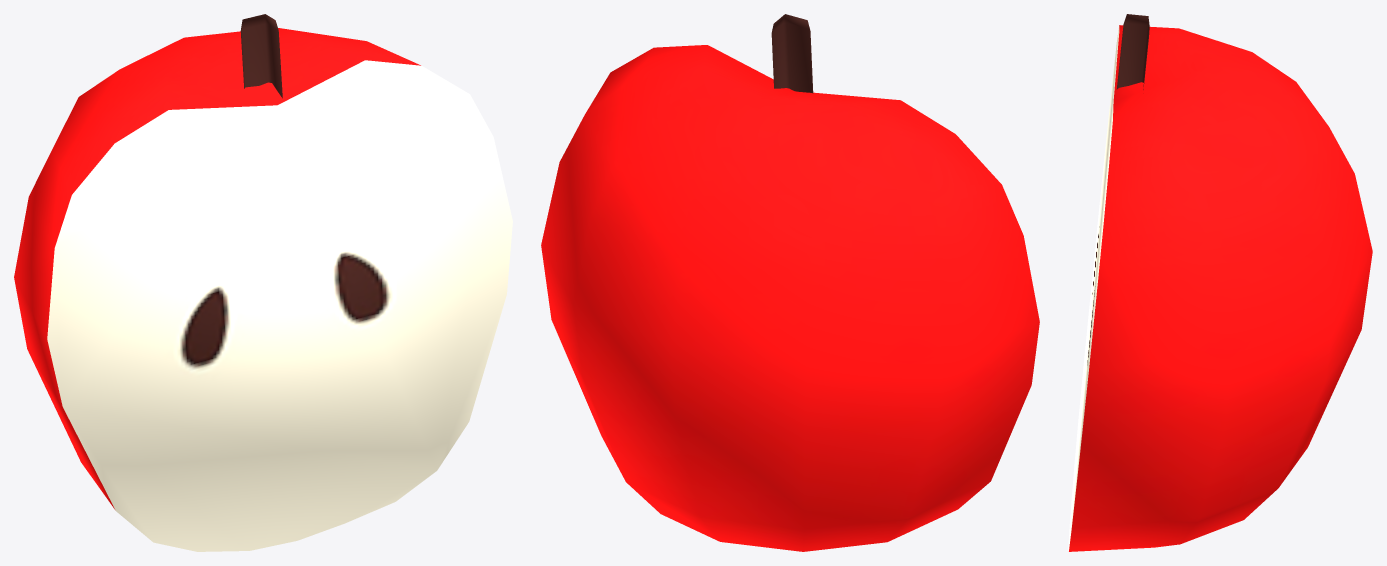
Rendered from apple_red_half.glb.
3 views of the same model, side by side, from view 1: azimuth 30°, elevation 25°; view 2: azimuth 150°, elevation 25°; view 3: azimuth 270°, elevation 25° (orthographic).
Parts seen in each view (by area): view 1: apple_red_half; view 2: apple_red_half; view 3: apple_red_half.
Boxes of the visible parts, left/top/right/bottom form: apple_red_half: left=14, top=14, right=512, bottom=551; apple_red_half: left=541, top=14, right=1039, bottom=551; apple_red_half: left=1068, top=14, right=1372, bottom=551.
Bounding box in the file's own units: 0.5609 × 0.5833 × 0.3229.
Materials: 1 (1 with a texture image).
